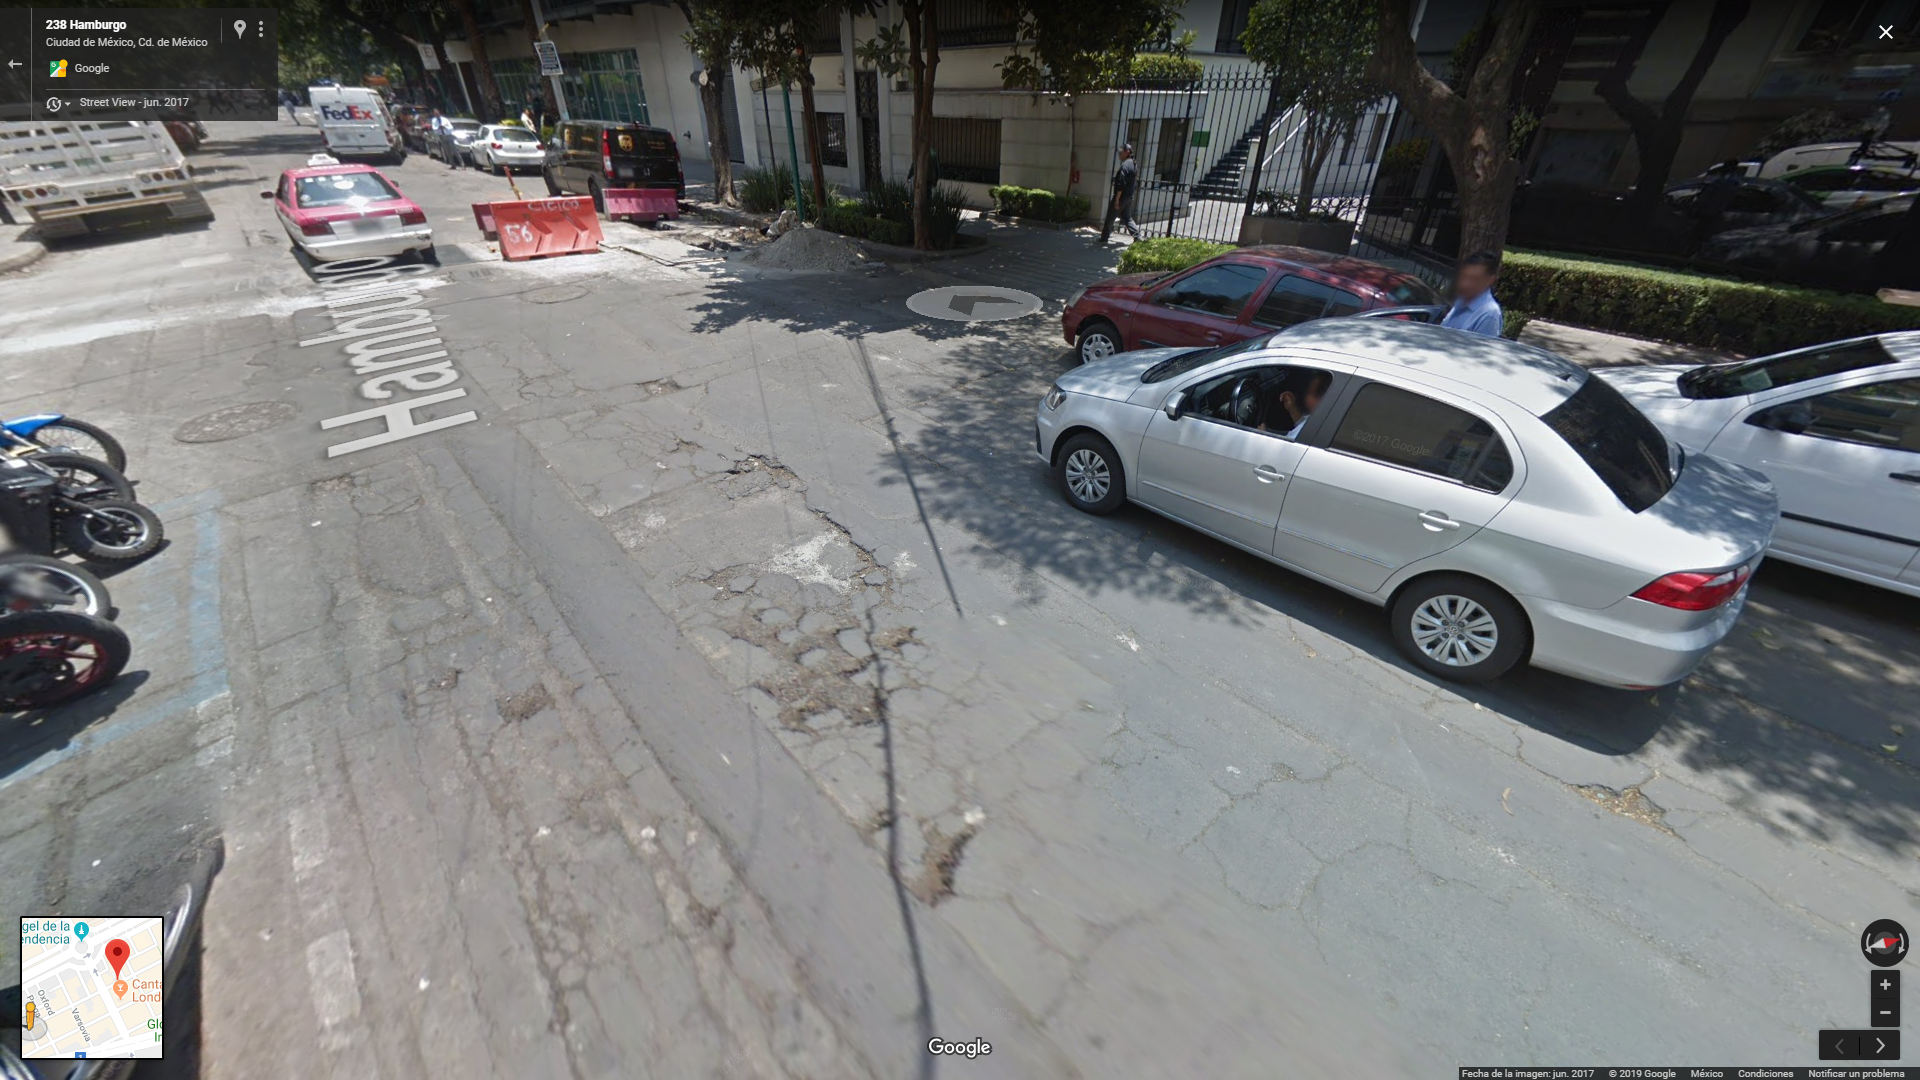pothole: (688, 520, 909, 744), (713, 433, 824, 509)
